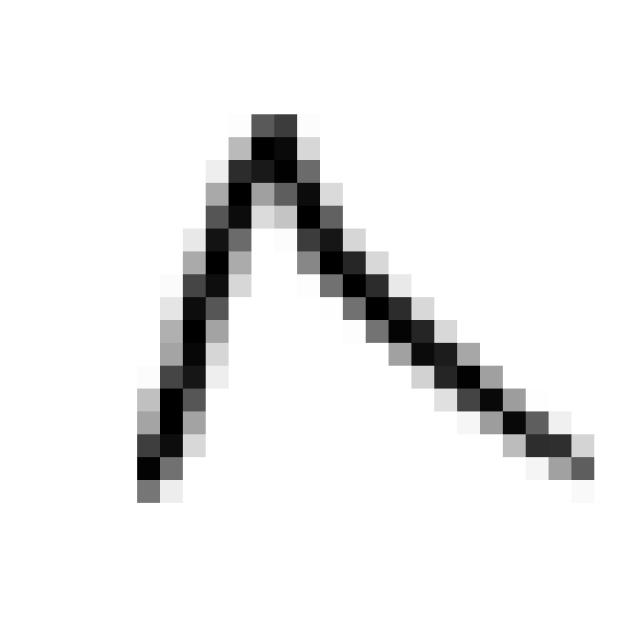8 -eight-: (119, 87, 610, 529)
